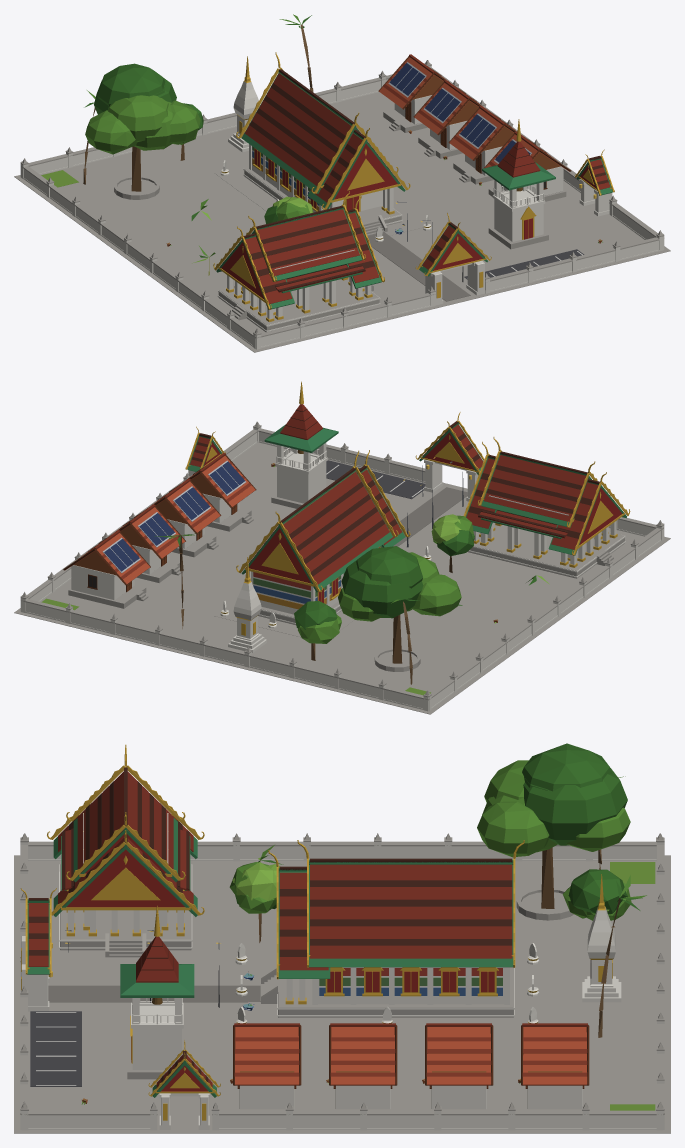
The model's file is temple_2.glb.
The picture shows the model from 3 angles, top to bottom: view 1: azimuth 30°, elevation 25°; view 2: azimuth 150°, elevation 25°; view 3: azimuth 270°, elevation 25°; orthographic projection. The views are drawn at different scales.
Visible parts, largest first — view 1: body; view 2: body; view 3: body.
Boxes of the visible parts, x1,y1,x2,y2 form: body: (14, 14, 670, 352); body: (14, 381, 670, 714); body: (14, 743, 670, 1133).
Size of the model in its own units: 47.9 by 13.28 by 47.9.
